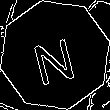N_N: (29, 26, 81, 84)
